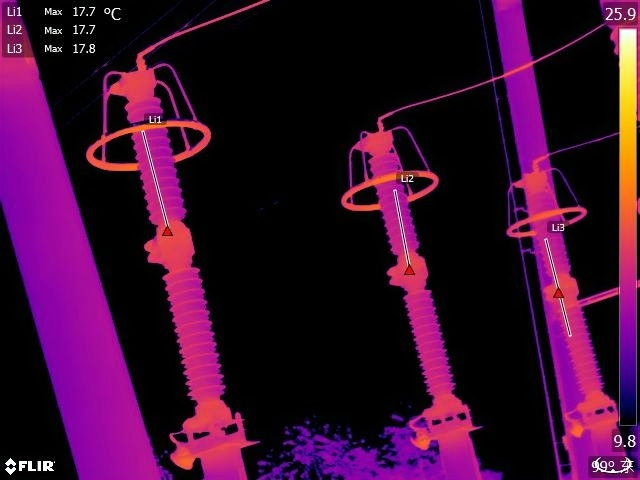lightning arrester: (88, 44, 269, 480), (338, 105, 496, 480), (502, 157, 620, 450)
